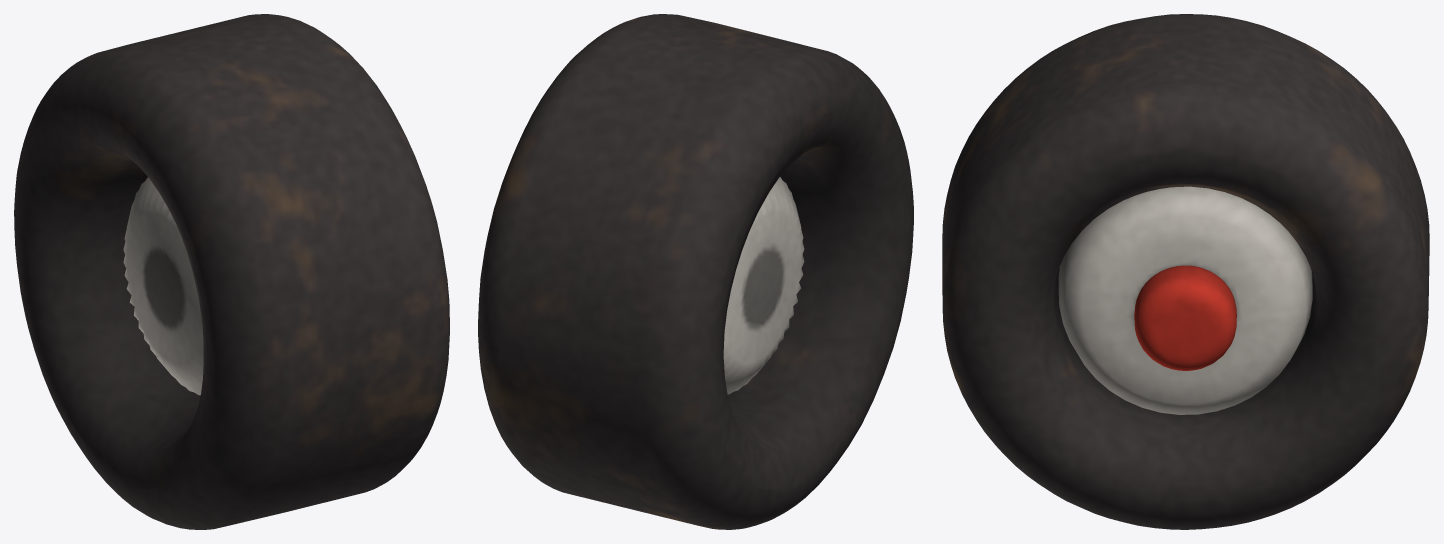
The picture shows the model from 3 angles, left to right: view 1: azimuth 30°, elevation 25°; view 2: azimuth 150°, elevation 25°; view 3: azimuth 270°, elevation 25°; orthographic projection.
Visible parts, largest first — view 1: wheel_RL; view 2: wheel_RL; view 3: wheel_RL.
Boxes of the visible parts, bbox=[...] form: wheel_RL: bbox=[14, 14, 449, 529]; wheel_RL: bbox=[478, 14, 913, 529]; wheel_RL: bbox=[942, 14, 1429, 529].
Bounding box in the file's own units: 0.145 × 0.2596 × 0.2595.
Materials: 1 (1 with a texture image).
